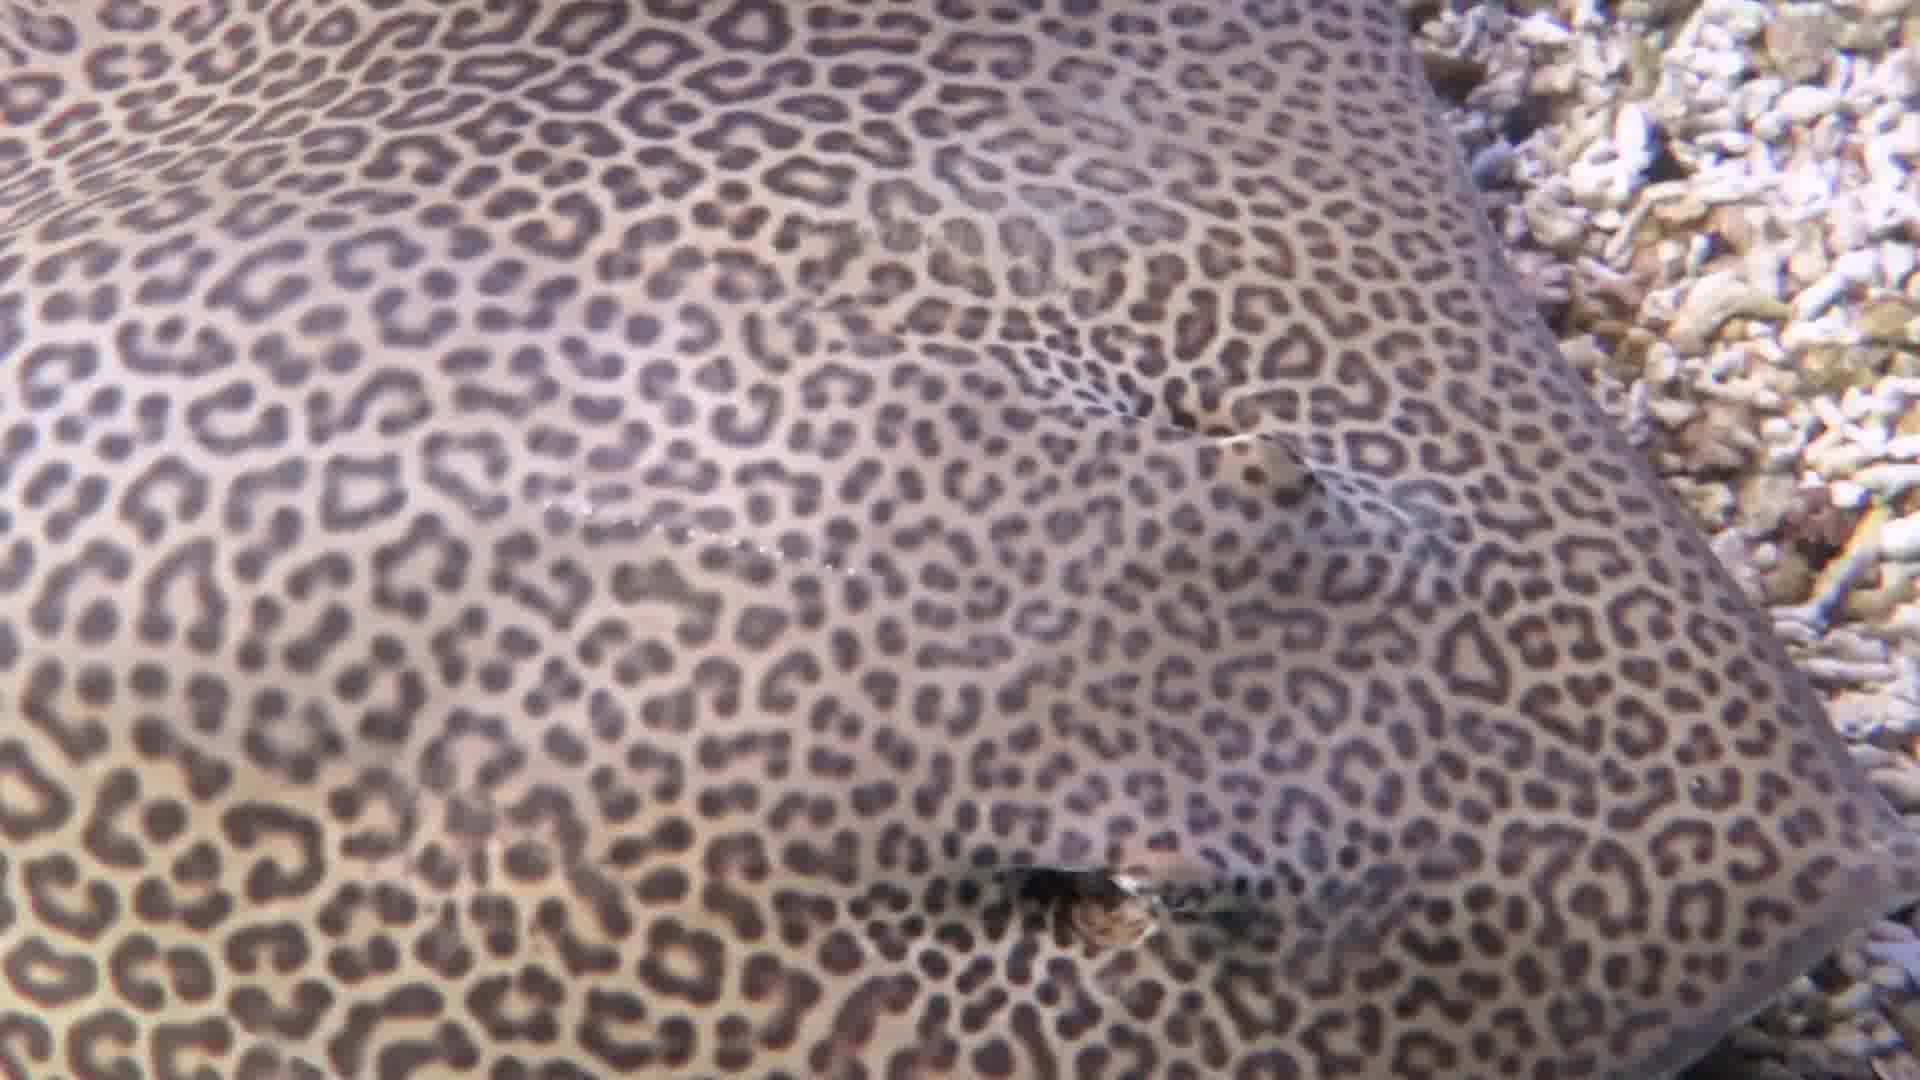Himantura uarnak: (1, 1, 1917, 1080)
